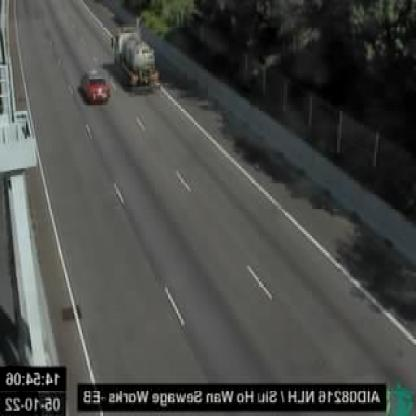Car: (82, 69, 113, 104)
Truck: (113, 28, 159, 94)
